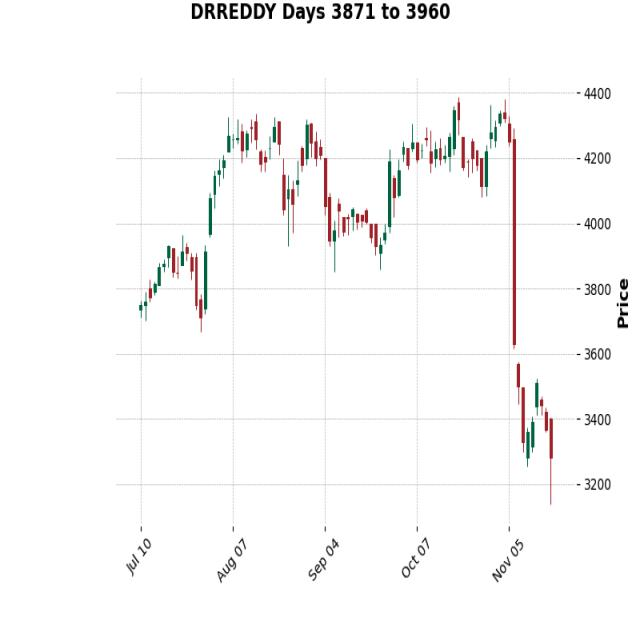Double Top: (208, 85, 339, 243)
